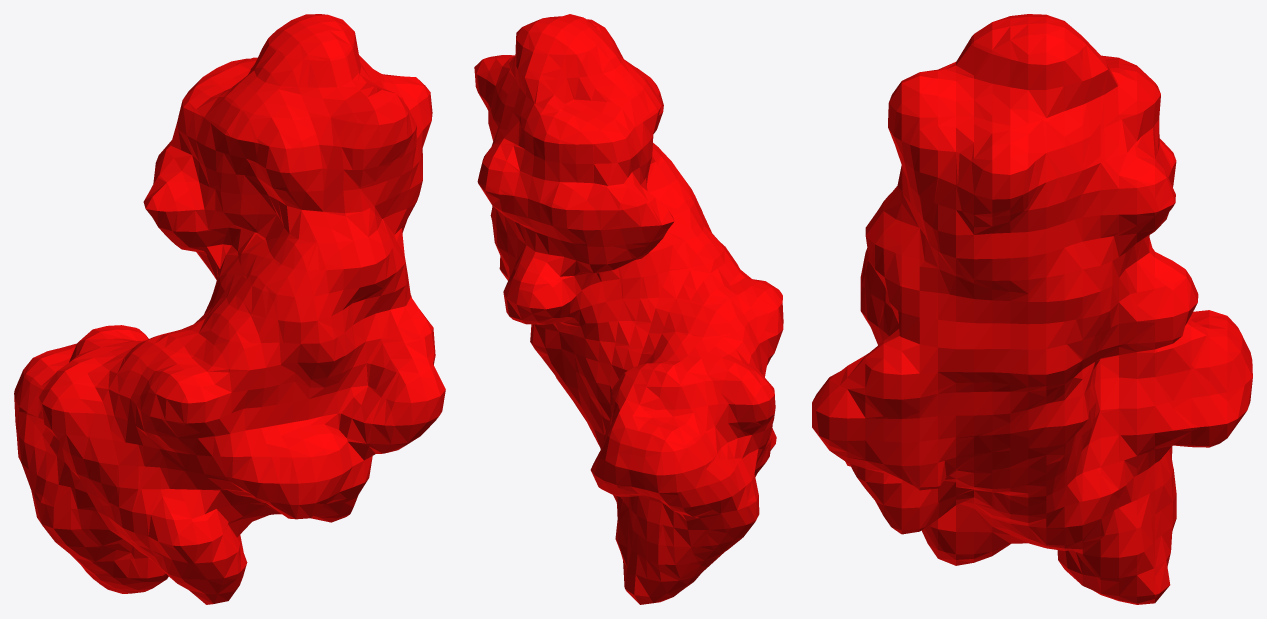
The model's file is yeeR_coarse.dae.
The picture shows the model from 3 angles, left to right: view 1: azimuth 30°, elevation 25°; view 2: azimuth 150°, elevation 25°; view 3: azimuth 270°, elevation 25°; orthographic projection. The views are drawn at different scales.
Visible parts, largest first — view 1: yeeR; view 2: yeeR; view 3: yeeR.
Boxes of the visible parts, x1,y1,x2,y2 form: yeeR: [14, 14, 445, 604]; yeeR: [474, 14, 783, 604]; yeeR: [812, 14, 1252, 604].
Bounding box in the file's own units: 66.21 × 101 × 60.91.
